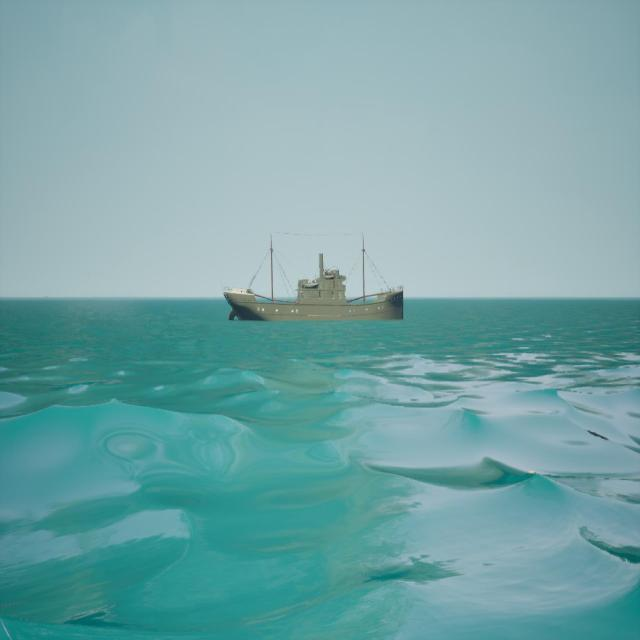fishing ship: (226, 233, 405, 323)
